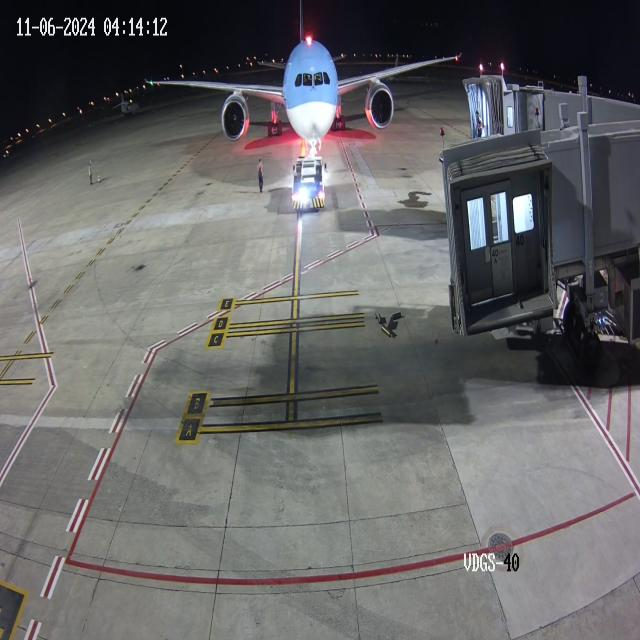bridge: (488, 76, 545, 143)
plane: (131, 0, 460, 154)
window: (290, 64, 332, 94)
